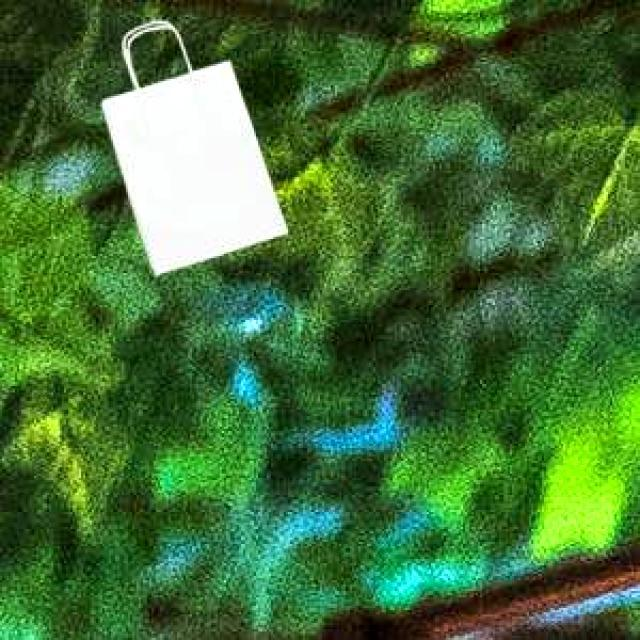Paper_Bag: (99, 18, 285, 272)
